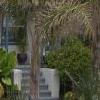Tree: (44, 6, 94, 78)
